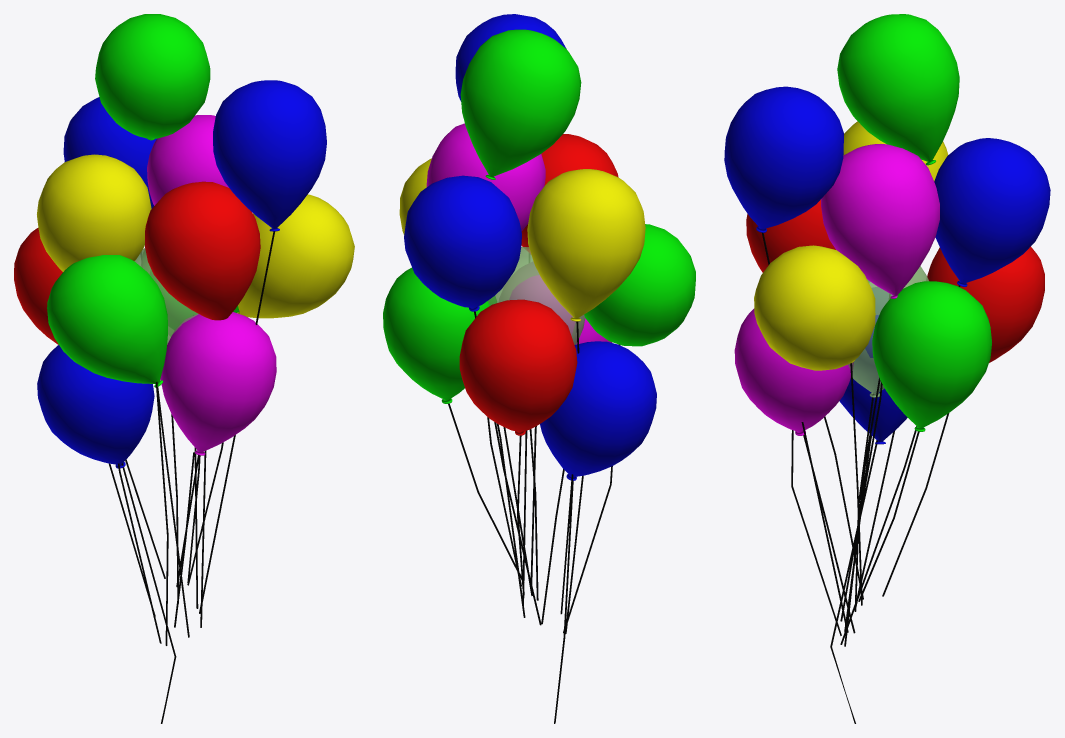
File: Balloons.fbx
3 renders of one model, left to right at view 1: azimuth 30°, elevation 25°; view 2: azimuth 150°, elevation 25°; view 3: azimuth 270°, elevation 25°, orthographic. The views are drawn at different scales.
Visible parts, largest first — view 1: Balloons; view 2: Balloons; view 3: Balloons.
Boxes of the visible parts, bbox=[...] form: Balloons: bbox=[14, 14, 354, 723]; Balloons: bbox=[383, 14, 695, 723]; Balloons: bbox=[724, 14, 1050, 723].
Size of the model in its own units: 174 by 402 by 167.
